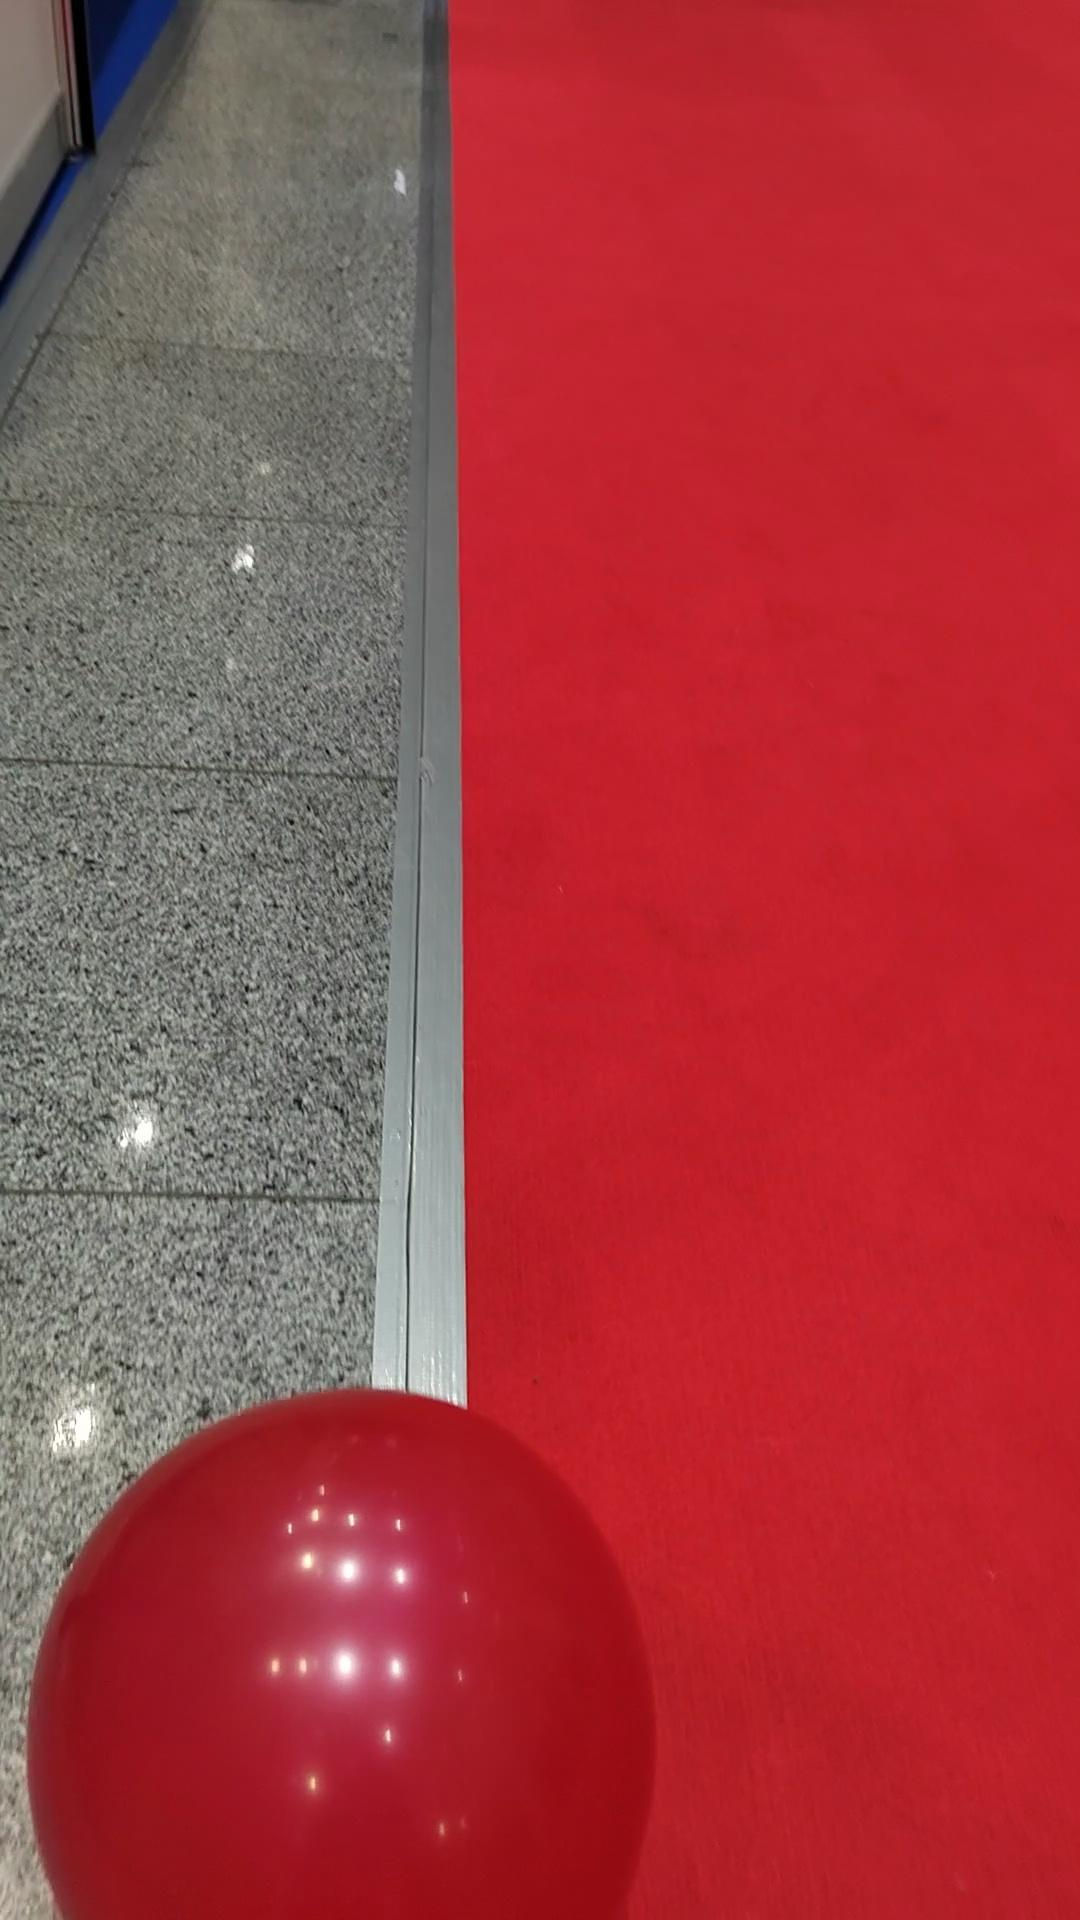red: (25, 1377, 667, 1920), (1079, 0, 1080, 65)
